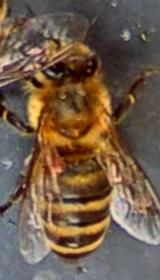varroa_mite: (31, 148, 78, 182)
